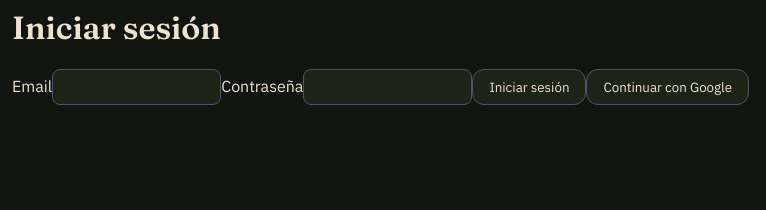
Test case: LoginForm › muestra un error cuando falla el inicio de sesion con Google
Click the button "Continuar con Google" at (668, 87), box [586,69,749,105]
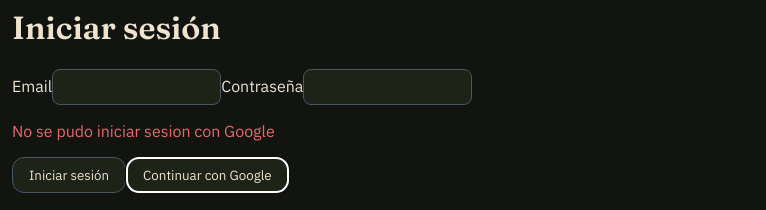
Result: the text "No se pudo iniciar sesion con Google" is shown at [12,121,275,141]
